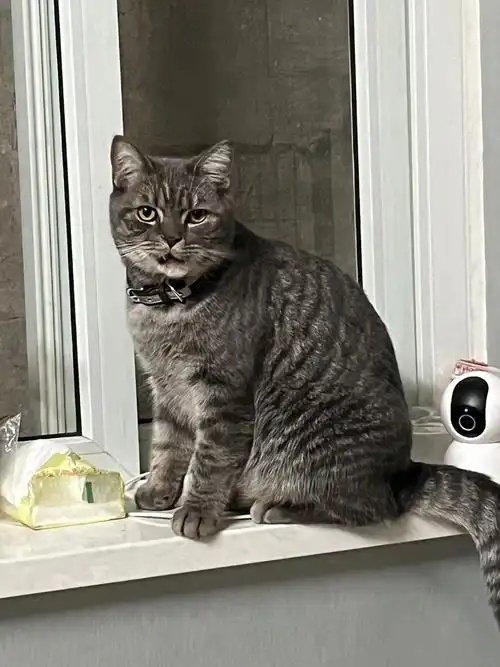狸花猫: (110, 136, 409, 537)
